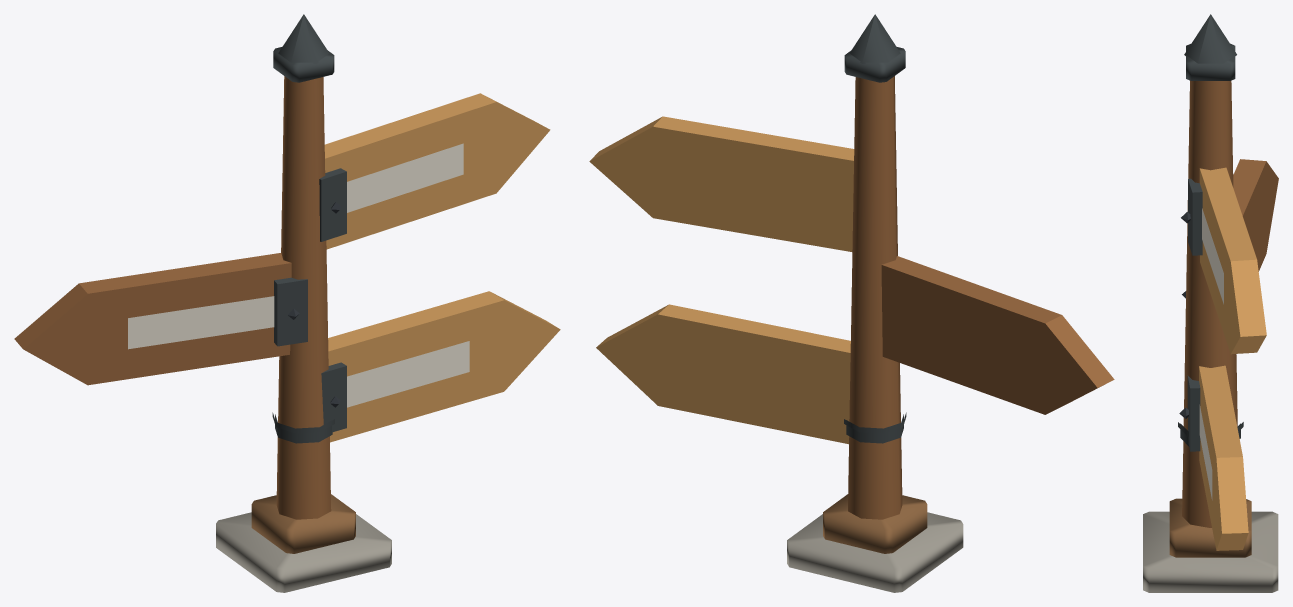
File: direction-signpost.glb
3 renders of one model, left to right at view 1: azimuth 30°, elevation 25°; view 2: azimuth 150°, elevation 25°; view 3: azimuth 270°, elevation 25°, orthographic.
Parts seen in each view (by area): view 1: Merged_signpost-timber, Merged_signpost-board, Merged_city-poster-surface, Merged_prop-accent, Merged_city-curb, Merged_city-timber; view 2: Merged_signpost-board, Merged_signpost-timber, Merged_city-curb, Merged_city-timber, Merged_prop-accent; view 3: Merged_signpost-board, Merged_signpost-timber, Merged_city-curb, Merged_prop-accent, Merged_city-timber, Merged_city-poster-surface.
Boxes of the visible parts, x1,y1,x2,y2 form: Merged_signpost-timber: (14,76,331,519); Merged_signpost-board: (324,93,560,442); Merged_city-poster-surface: (128,143,469,407); Merged_prop-accent: (272,14,346,443); Merged_city-curb: (216,512,391,592); Merged_city-timber: (251,494,355,553); Merged_signpost-board: (589,116,854,444); Merged_signpost-timber: (848,76,1114,519); Merged_city-curb: (787,512,963,592); Merged_city-timber: (823,494,927,553); Merged_prop-accent: (844,14,906,443); Merged_signpost-board: (1199,167,1266,550); Merged_signpost-timber: (1182,80,1278,527); Merged_city-curb: (1143,511,1278,592); Merged_prop-accent: (1178,14,1243,451); Merged_city-timber: (1169,498,1251,557); Merged_city-poster-surface: (1199,208,1223,500).
Size of what is drawn, in the model's own units: 2.99 by 2.96 by 0.6625.
